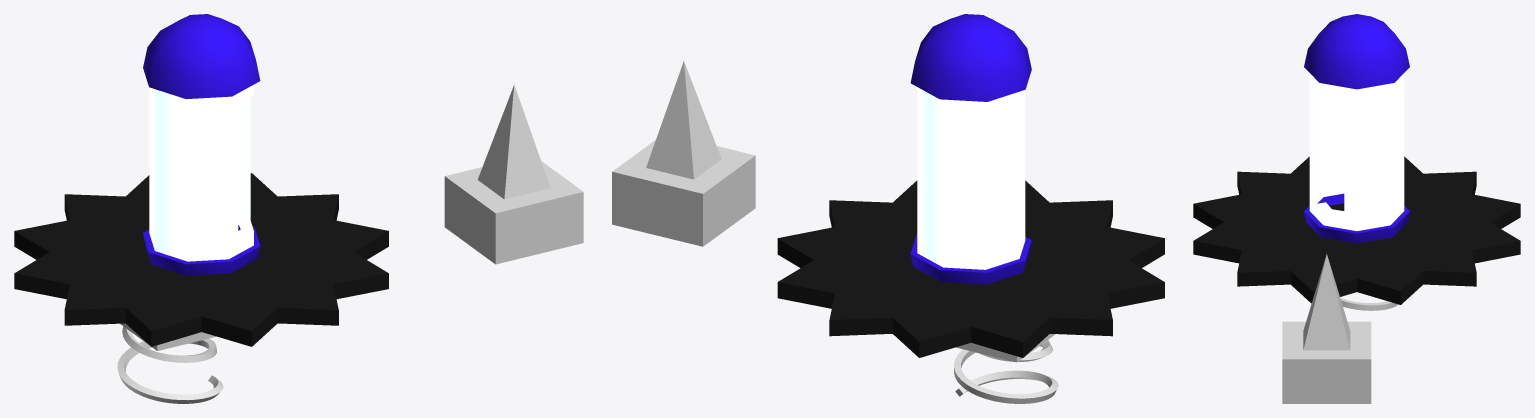
File: objetos.FBX
3 views of the same model, side by side, from view 1: azimuth 30°, elevation 25°; view 2: azimuth 150°, elevation 25°; view 3: azimuth 270°, elevation 25° (orthographic). The views are drawn at different scales.
Visible parts, largest first — view 1: sierra, cápsula, púa, trampolín; view 2: sierra, cápsula, púa, trampolín; view 3: sierra, cápsula, púa, trampolín.
Boxes of the visible parts, x1,y1,x2,y2 form: sierra: [14, 173, 388, 346]; cápsula: [143, 14, 260, 275]; púa: [444, 85, 583, 264]; trampolín: [117, 323, 223, 403]; sierra: [777, 180, 1164, 357]; cápsula: [910, 14, 1031, 284]; púa: [612, 61, 755, 246]; trampolín: [954, 334, 1058, 403]; sierra: [1193, 156, 1520, 304]; cápsula: [1304, 14, 1409, 243]; púa: [1282, 254, 1371, 403]; trampolín: [1340, 297, 1398, 310].
Bounding box in the file's own units: 51.28 × 35.94 × 33.18.
